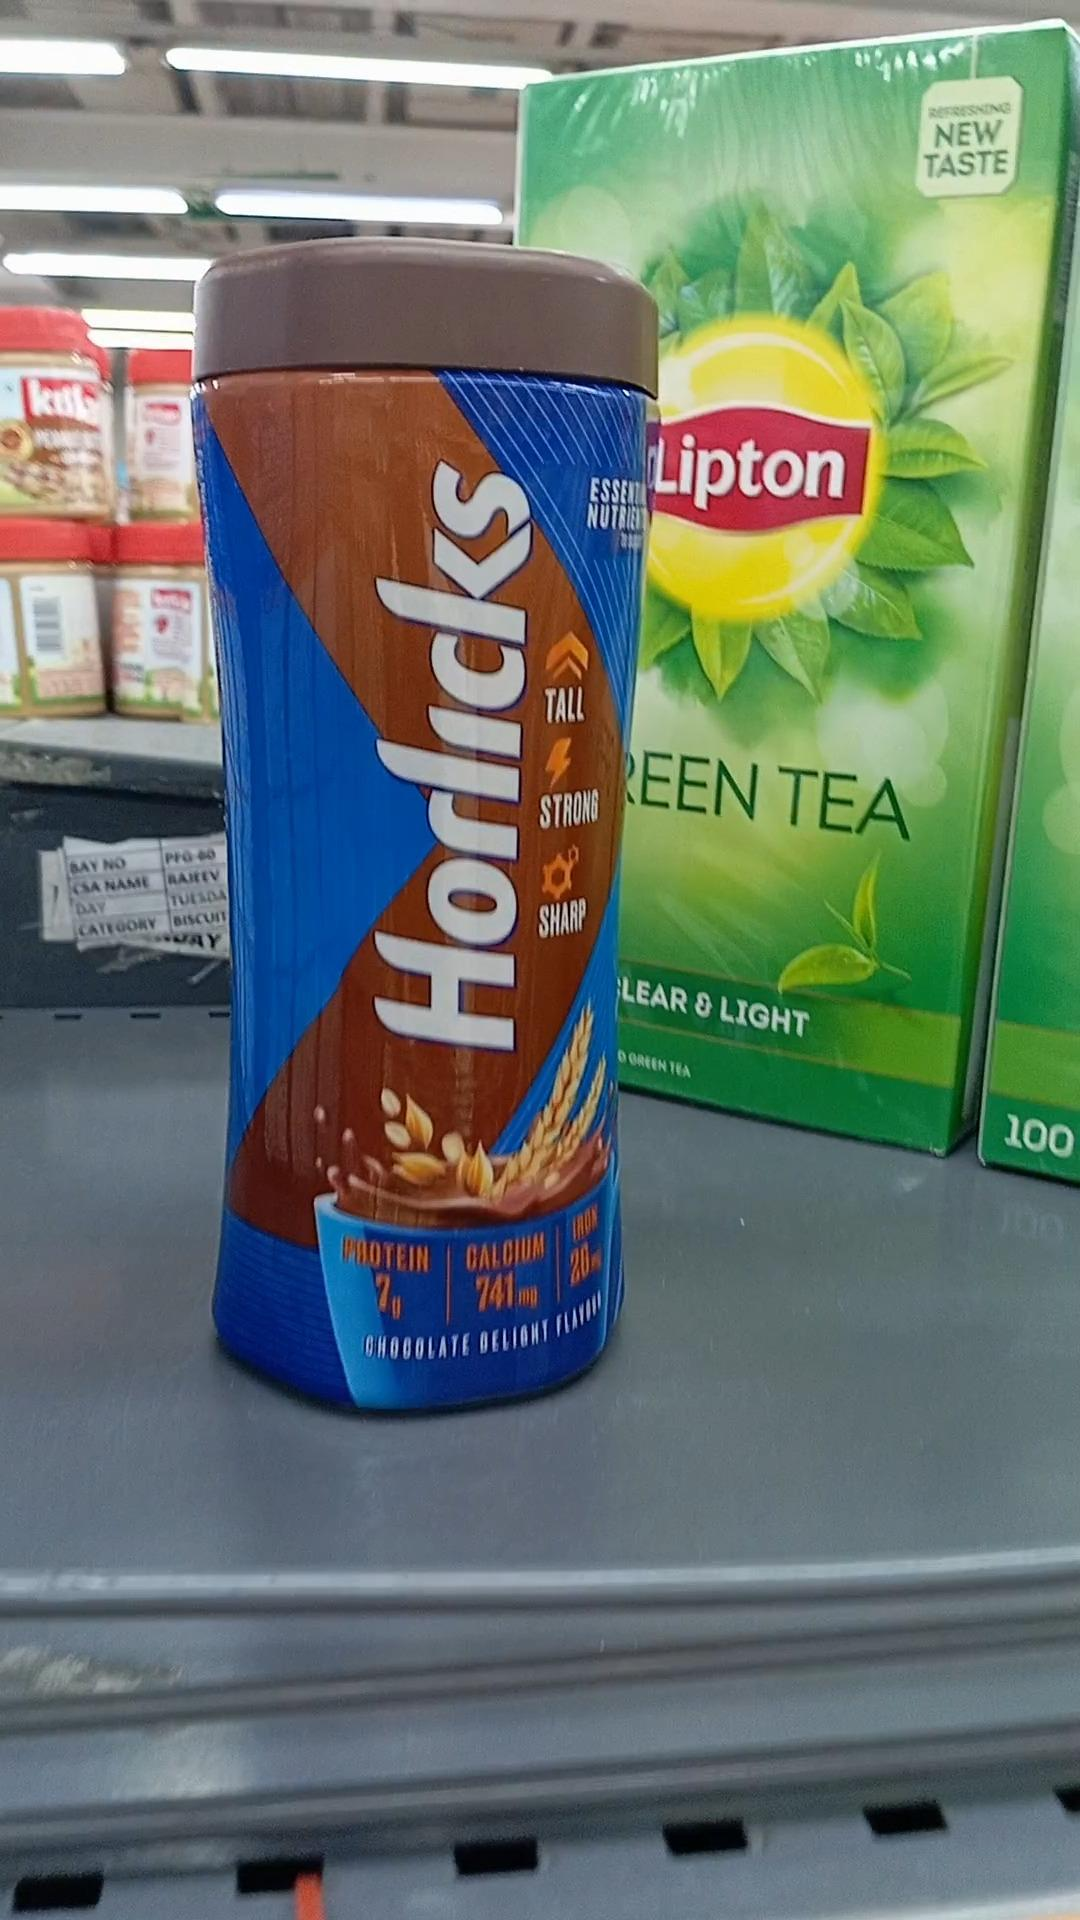HORLICK_CHOCOLATE_500_G_JAR: (194, 207, 640, 1429)
